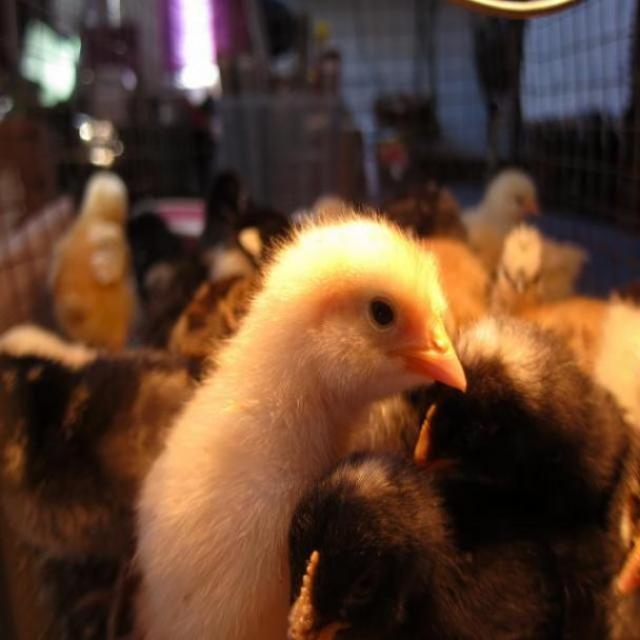Chicken: (127, 205, 465, 639)
